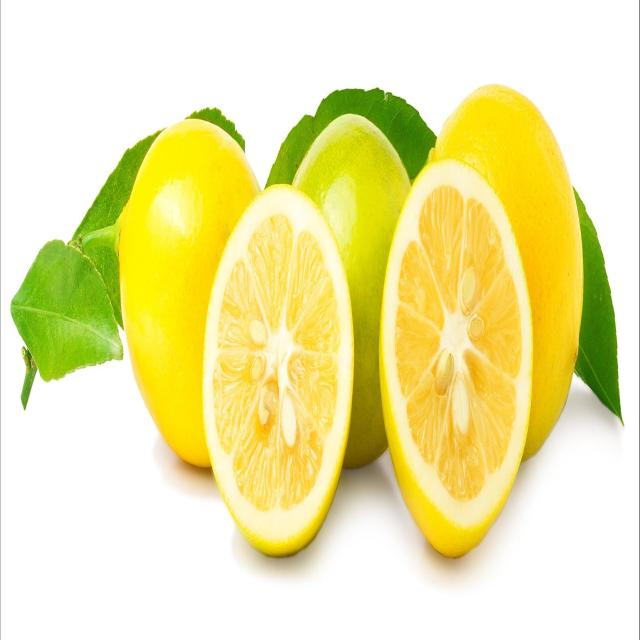lemon: (376, 150, 536, 566), (200, 179, 357, 563)
